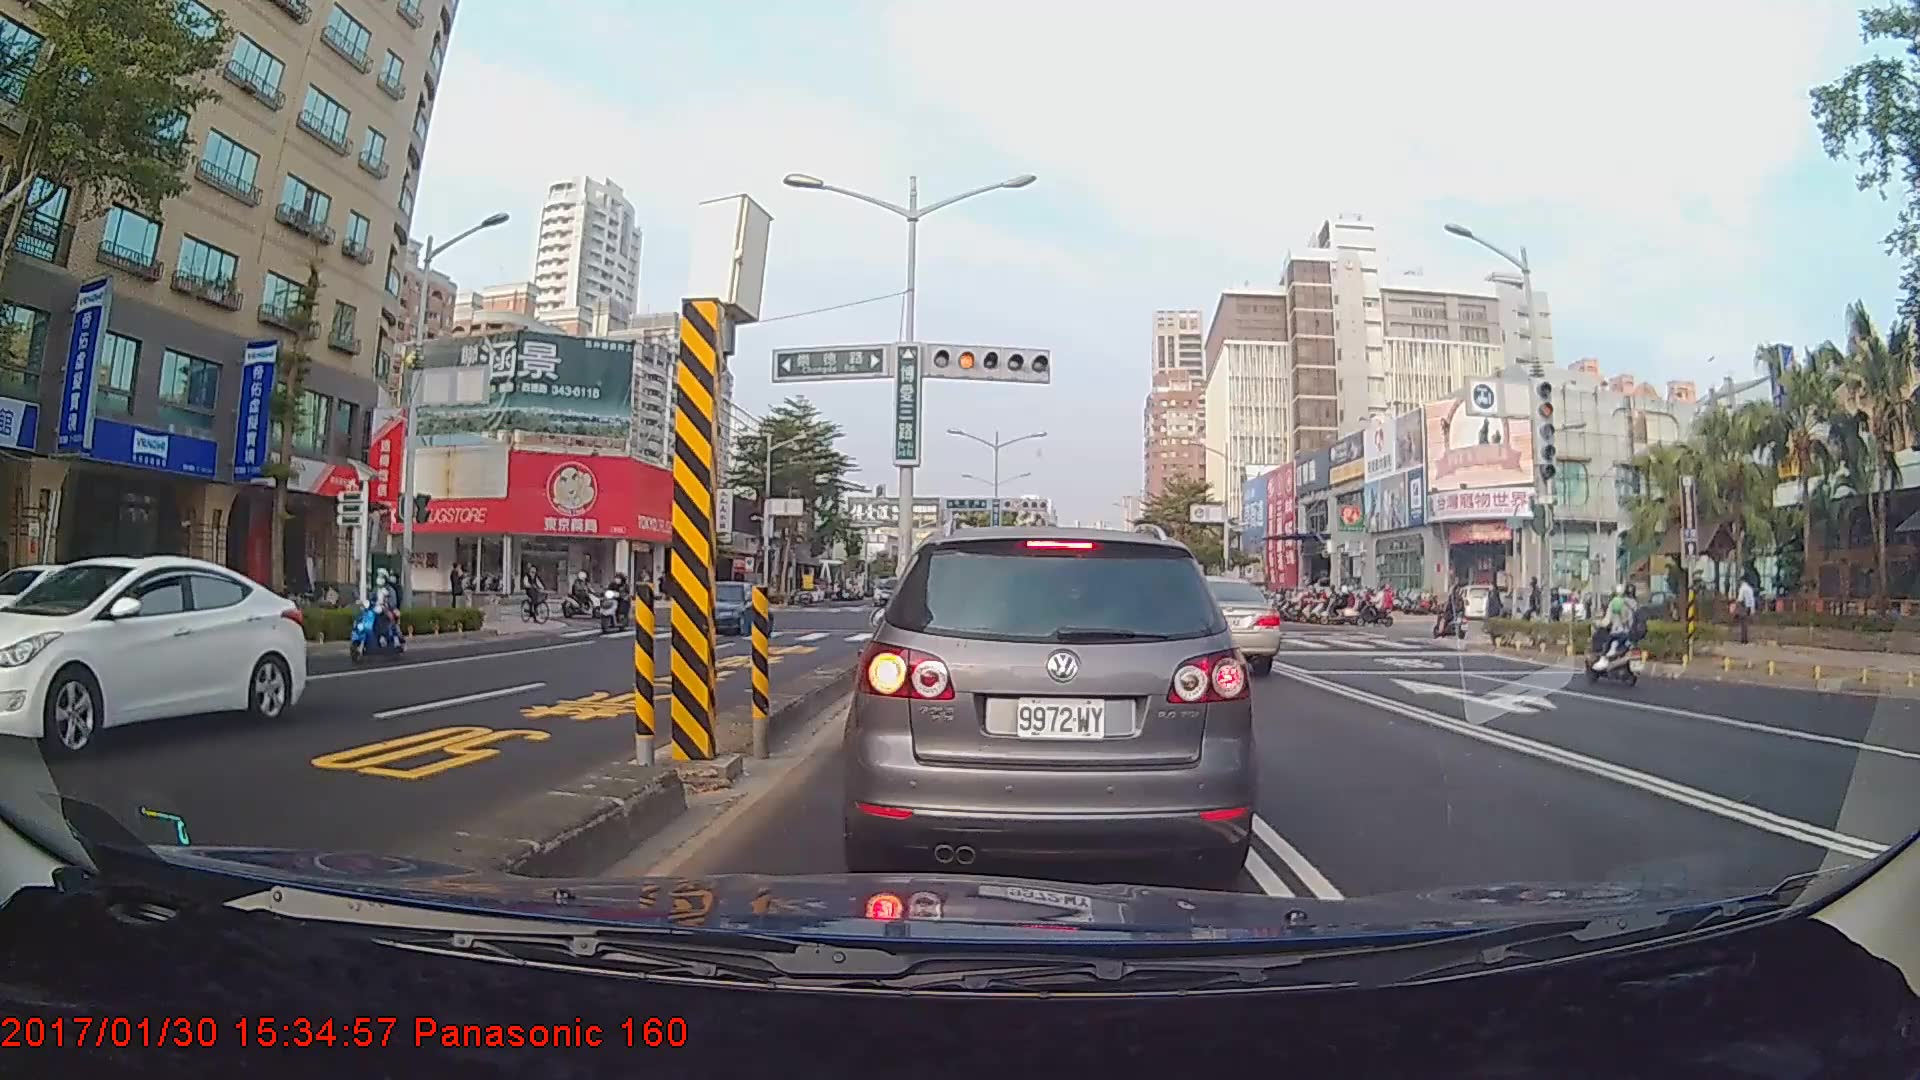pedestrian: (1733, 576, 1759, 644), (447, 563, 467, 620)
rider: (1584, 579, 1659, 689), (356, 572, 415, 662), (590, 566, 636, 640), (562, 566, 609, 619), (1435, 584, 1473, 640), (522, 566, 551, 627)
vehicle: (853, 504, 1253, 872), (0, 552, 305, 760), (1139, 577, 1279, 672), (676, 580, 769, 635)
